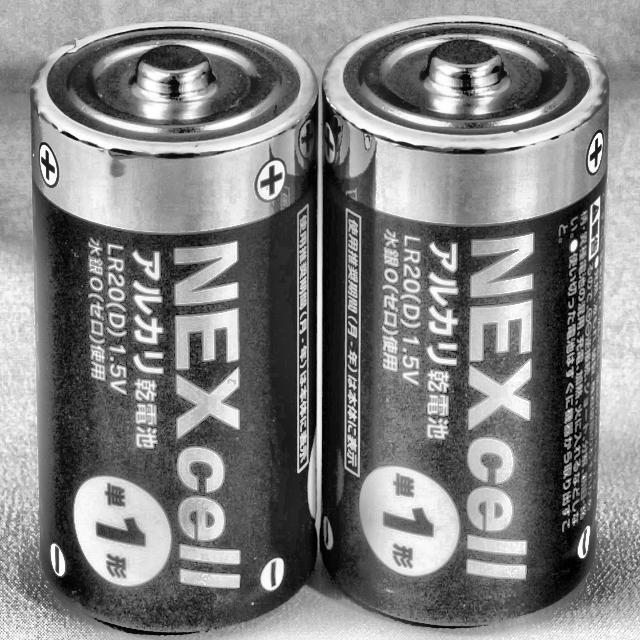drycell: (310, 11, 625, 635), (22, 18, 319, 640)
